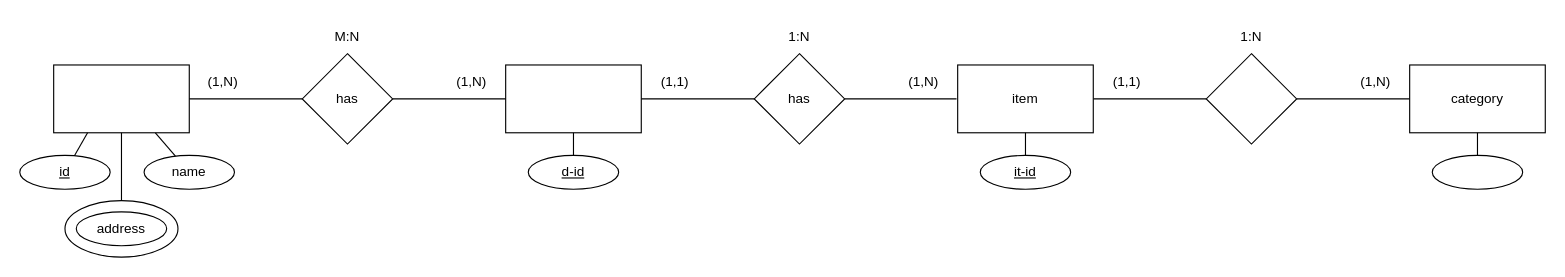
The diagram is 1565 pixels wide and 277 high, and some of its shapes have lost their labels. Here are the shapes that lost their labels. From the top down, the centre of each, then its label:
At pixel 121 98: "customer".
At pixel 573 98: "discount".
At pixel 1251 98: "belongs".
At pixel 1477 171: "cat-id".
